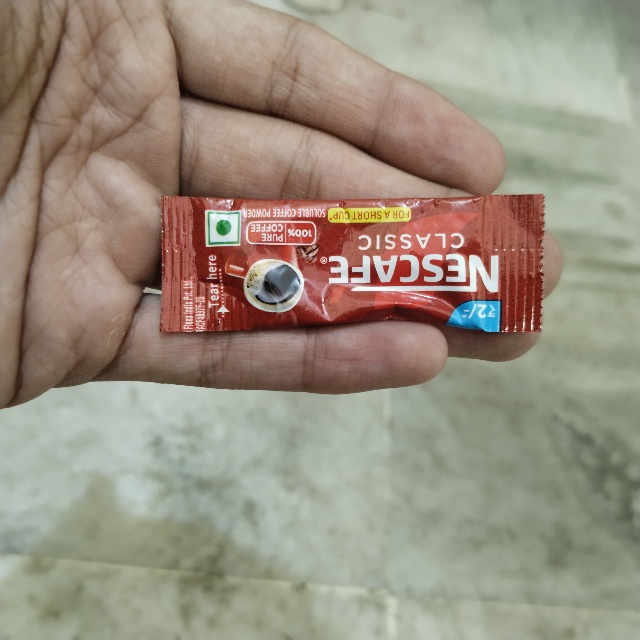Nescafe Coffee: (159, 190, 545, 335)
